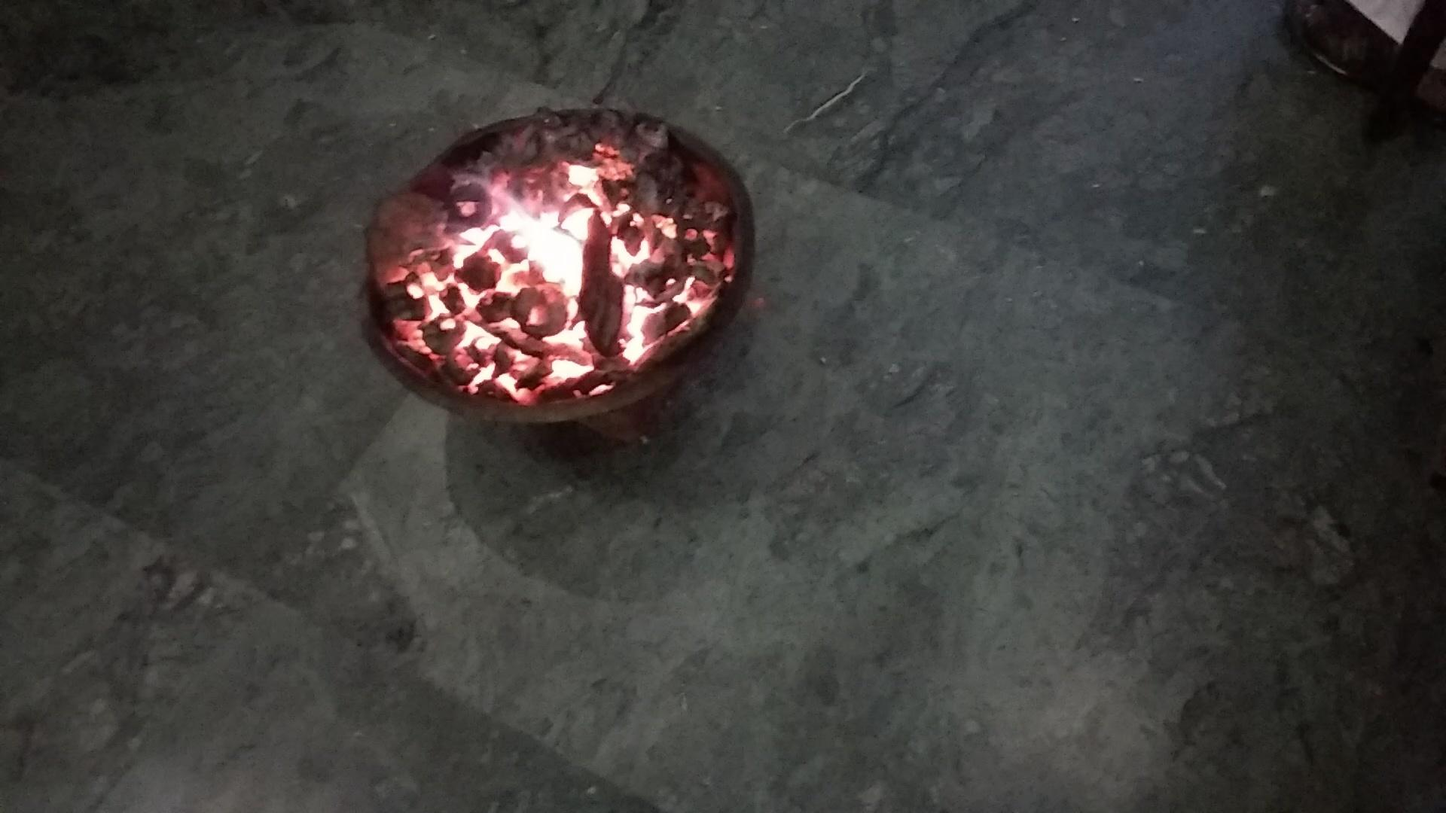fire: (382, 108, 717, 400)
